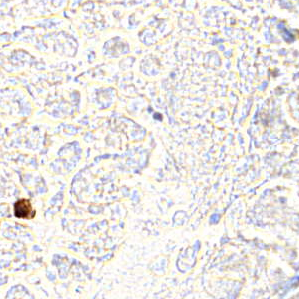Lymphocyte: (10, 197, 37, 221)
